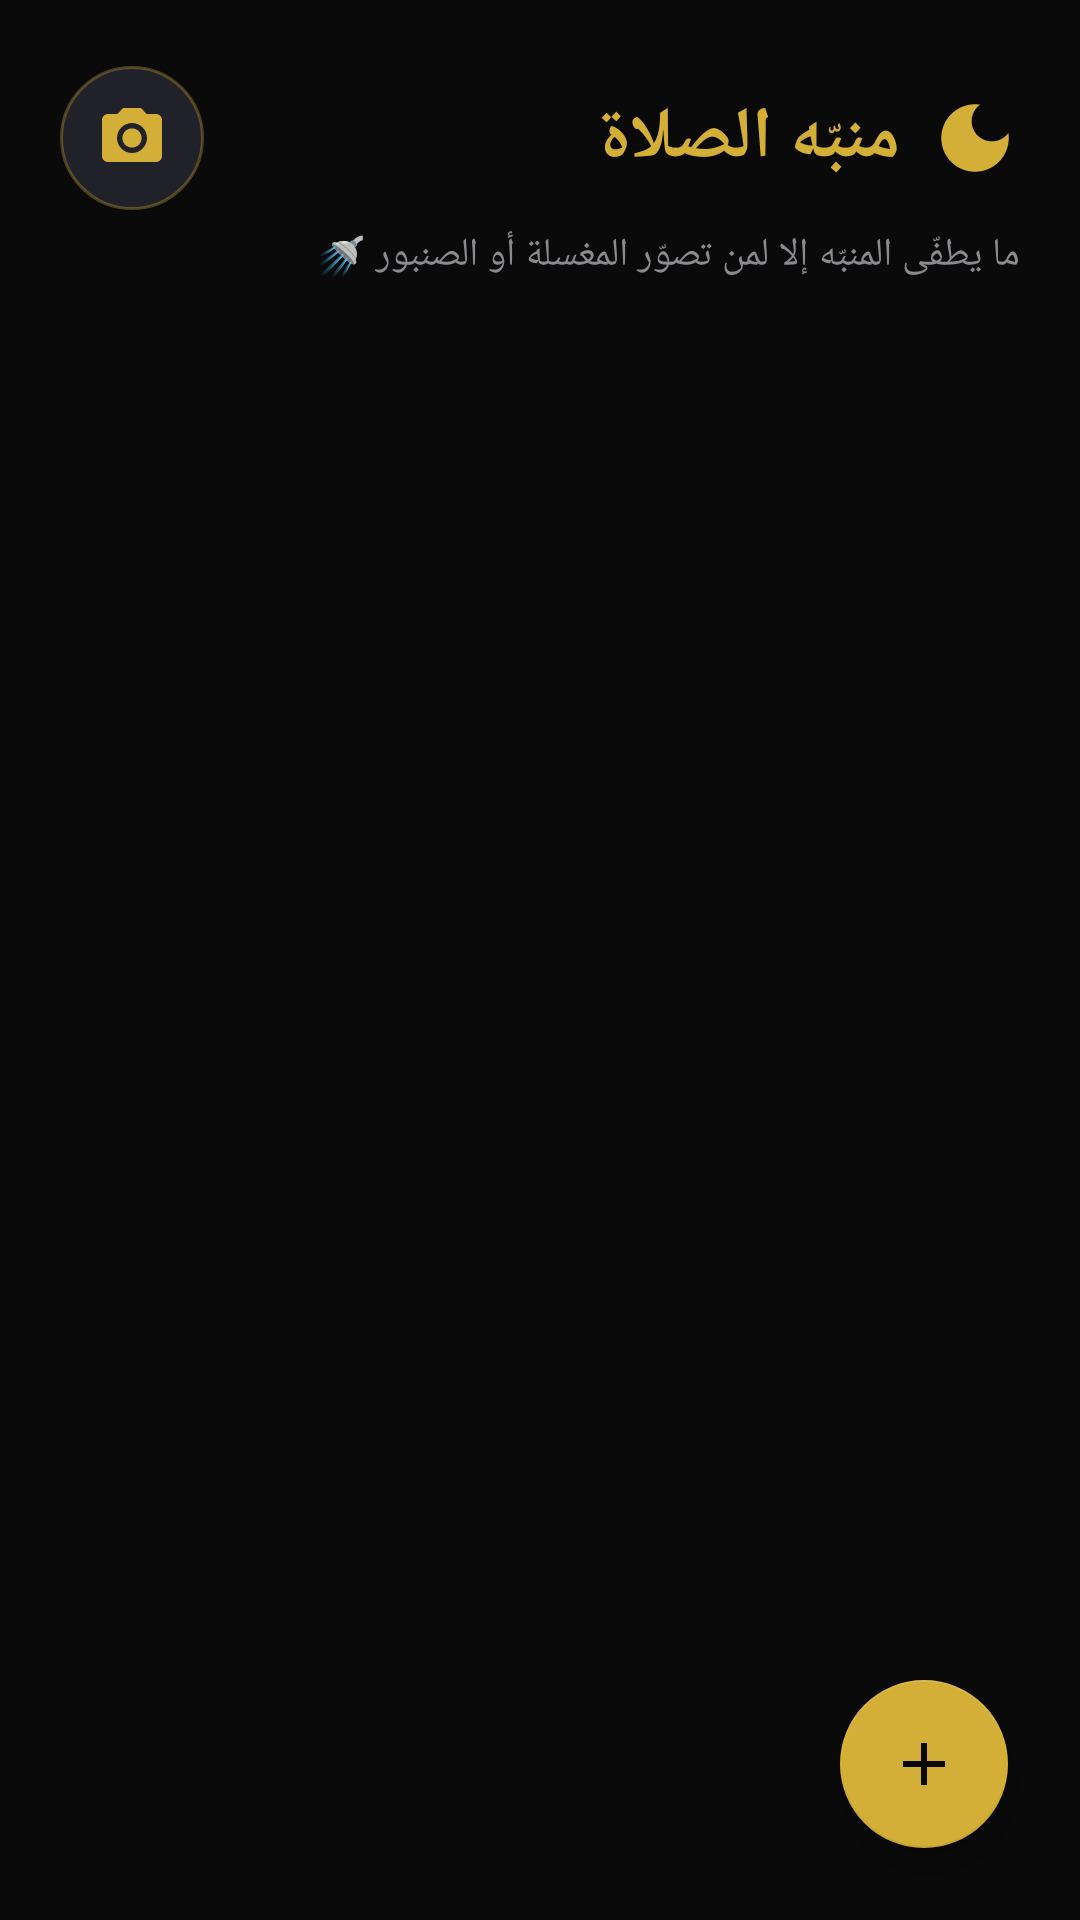

Icon bounding boxes for this 1080 x 1920 phone screenshot, format box=[x1, y1, x2, y2]:
moon: box=[941, 104, 1009, 172]
إضافة منبّه: box=[840, 1680, 1008, 1848]
فتح الكاميرا: box=[60, 66, 204, 210]
